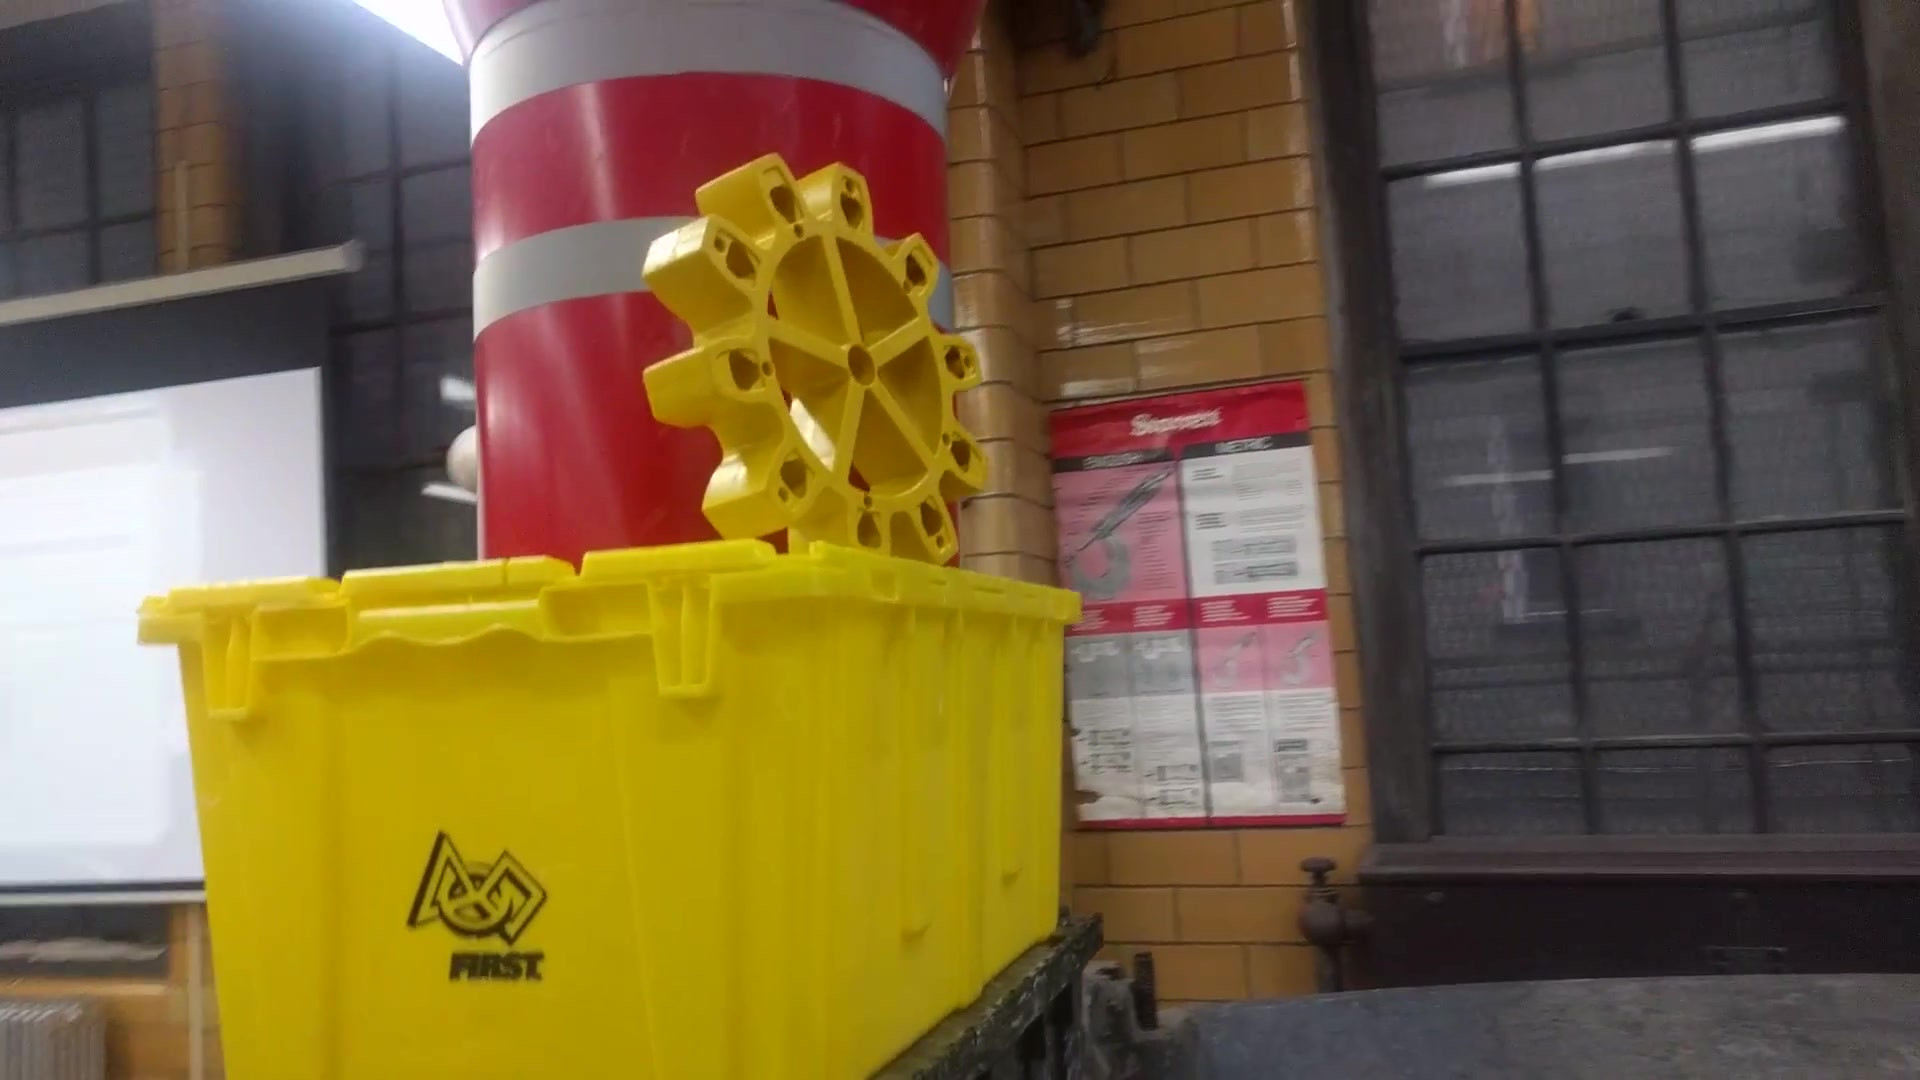gear: (647, 119, 1010, 601)
